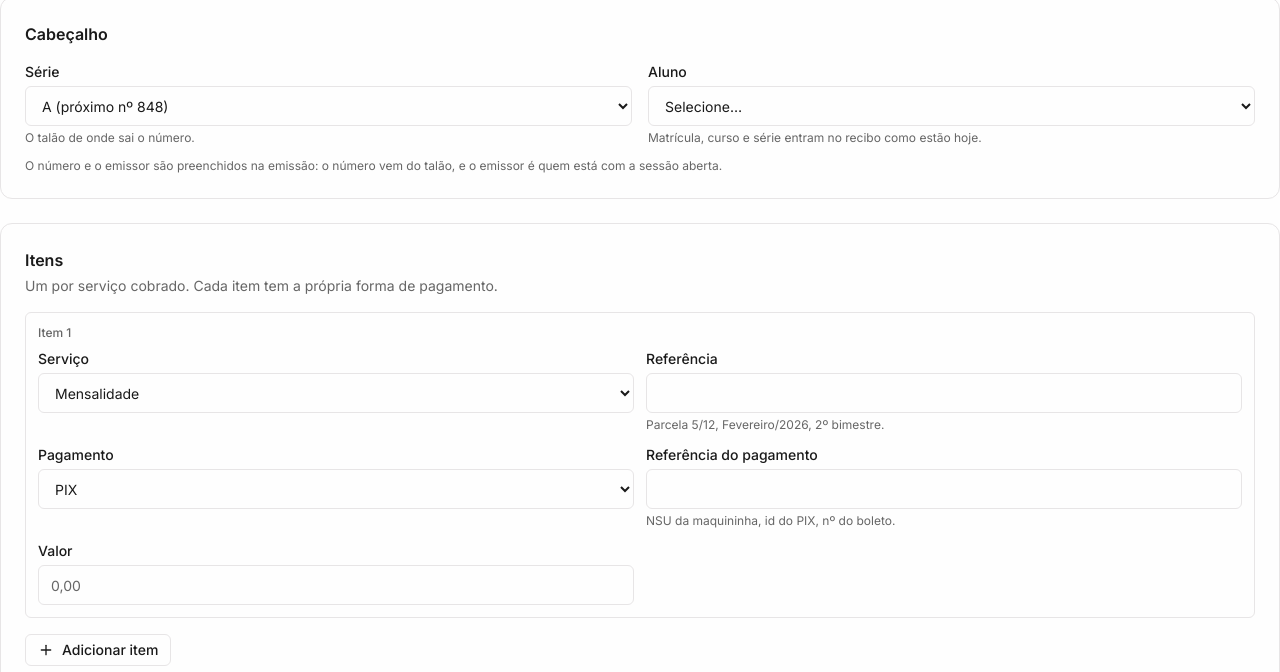
Test case: formulário de recibo › soma os itens enquanto a pessoa digita
The image size is (1280, 672).
Type "1.923,00" into the field labelled "Valor".
click(336, 585); type("1.923,00")  # box [38, 565, 634, 605]
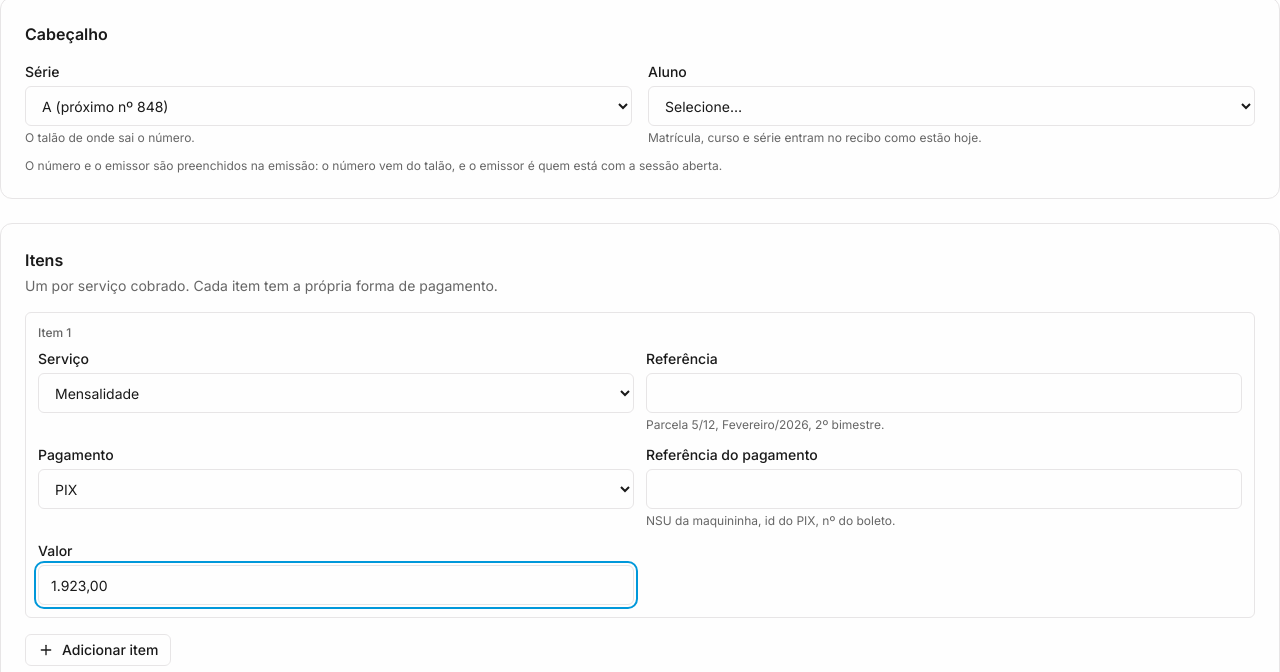
Click the button "Adicionar item".
click(98, 650)  # box [25, 634, 171, 666]
(page scrolled)
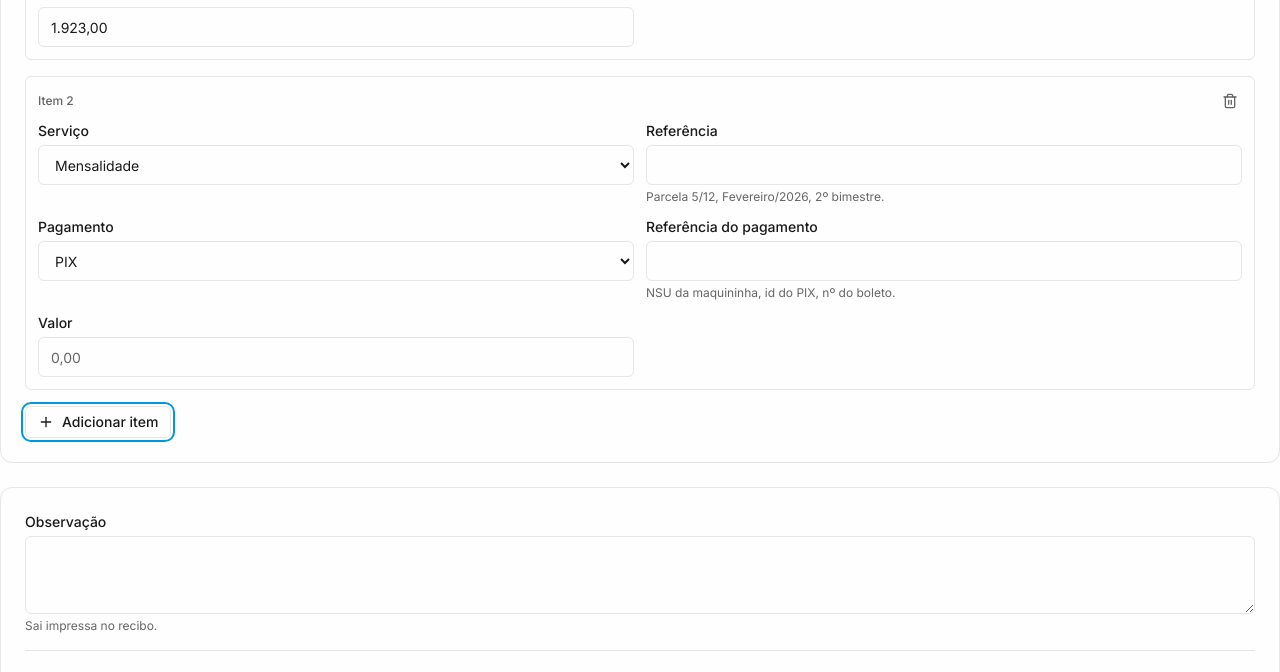
Type "77,50" into the 2nd field labelled "Valor".
click(336, 357); type("77,50")  # box [38, 337, 634, 377]
(page scrolled)
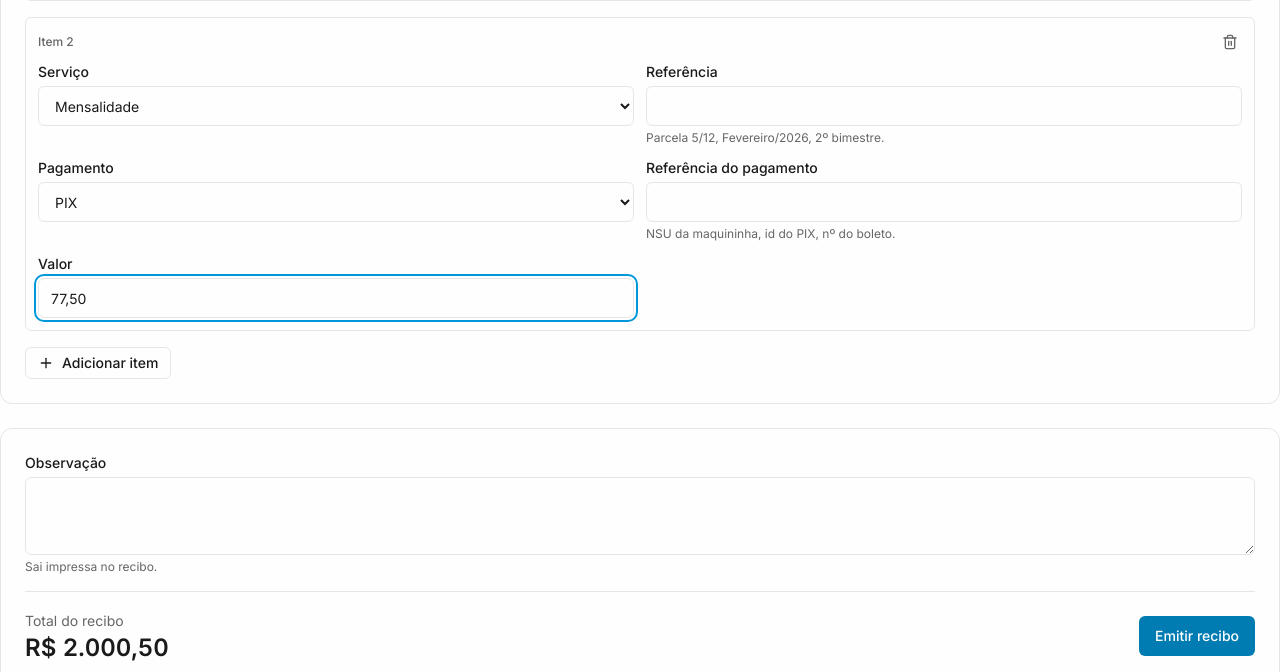
Check: the text "R$ 2.000,50" is shown, box [25, 632, 169, 664]
